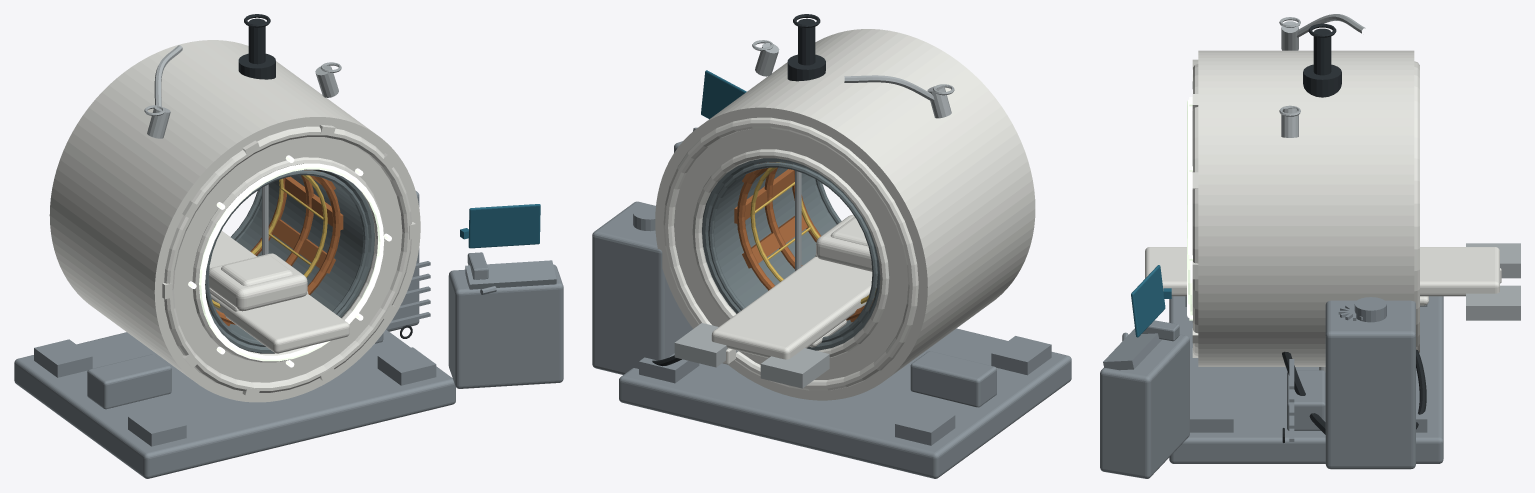
Rendered from mri_scanner.glb.
3 views of the same model, side by side, from view 1: azimuth 30°, elevation 25°; view 2: azimuth 150°, elevation 25°; view 3: azimuth 270°, elevation 25° (orthographic). The views are drawn at different scales.
Parts seen in each view (by area): view 1: magnet_shell, base_skid, control_console, bore_lining, patient_table, work_light, gradient_coils, console_screen, helium_ports, quench_vent, chiller, rf_body_coil; view 2: magnet_shell, base_skid, chiller, bore_lining, patient_table, table_rails, gradient_coils, helium_ports, quench_vent, console_screen, rf_body_coil; view 3: magnet_shell, base_skid, chiller, control_console, patient_table, table_rails, quench_vent, helium_ports, console_screen, work_light, coolant_hoses.
Boxes of the visible parts, x1,y1,x2,y2 form: magnet_shell: (49,40,420,402); base_skid: (14,329,455,478); control_console: (448,252,563,388); bore_lining: (205,169,374,353); patient_table: (209,231,349,353); work_light: (188,155,391,367); gradient_coils: (207,170,343,325); console_screen: (460,204,540,248); helium_ports: (144,45,341,138); quench_vent: (238,14,275,79); chiller: (386,191,430,331); rf_body_coil: (212,175,327,308); magnet_shell: (655,29,1035,400); base_skid: (619,328,1071,478); chiller: (592,201,692,374); bore_lining: (702,158,880,350); patient_table: (711,215,872,364); table_rails: (674,170,876,388); gradient_coils: (734,162,874,322); helium_ports: (752,40,954,118); quench_vent: (787,14,825,81); console_screen: (701,70,746,119); rf_body_coil: (750,162,876,303); magnet_shell: (1192,50,1419,366); base_skid: (1169,296,1443,463); chiller: (1289,297,1415,469); control_console: (1100,320,1189,478); patient_table: (1145,247,1501,305); table_rails: (1319,243,1520,372); quench_vent: (1303,23,1341,97); helium_ports: (1279,14,1365,137); console_screen: (1131,265,1171,337); work_light: (1187,97,1192,320); coolant_hoses: (1282,349,1426,442).
Bounding box in the file's own units: 2.95 × 2.88 × 2.61.
